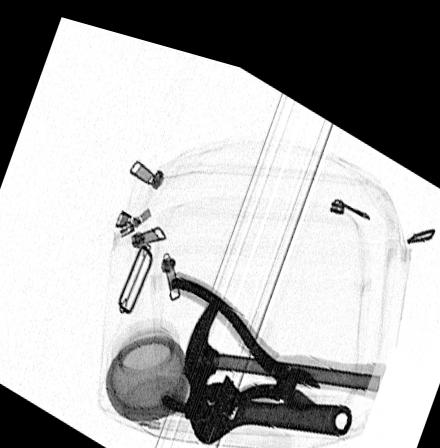Hammer: (180, 281, 388, 408)
Pliers: (160, 259, 320, 410)
Wrench: (185, 358, 353, 431)
